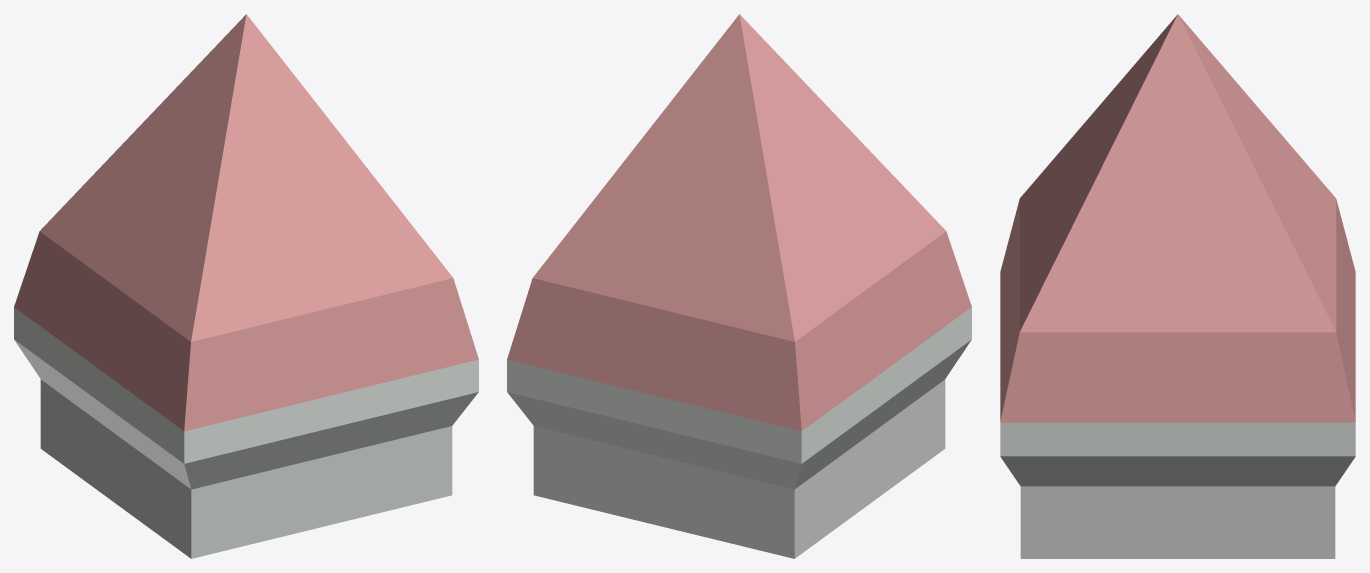
The model's file is tower-defense-classic--tile-053.glb.
3 renders of one model, left to right at view 1: azimuth 30°, elevation 25°; view 2: azimuth 150°, elevation 25°; view 3: azimuth 270°, elevation 25°, orthographic. The views are drawn at different scales.
Parts seen in each view (by area): view 1: tile_053; view 2: tile_053; view 3: tile_053.
Part boxes in pixels (x1=…): tile_053: x1=14, y1=14, x2=478, y2=558; tile_053: x1=507, y1=14, x2=971, y2=558; tile_053: x1=1000, y1=14, x2=1355, y2=558.
Bounding box in the file's own units: 0.6668 × 0.99 × 0.6668.
